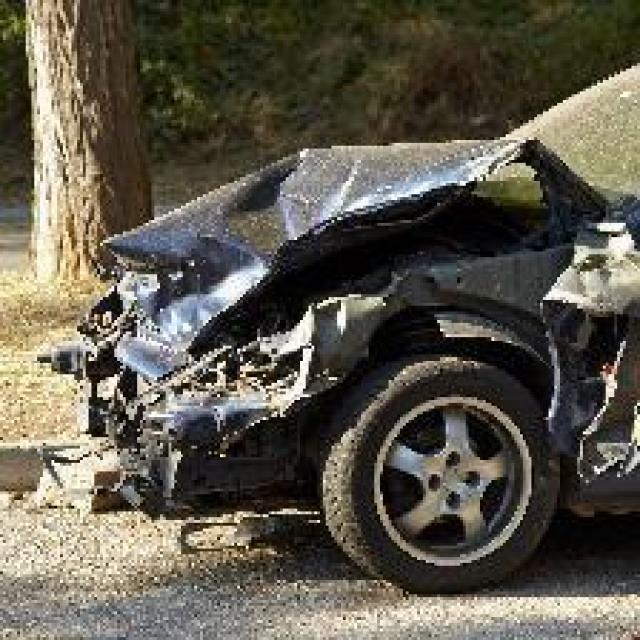damaged: (37, 143, 637, 506)
